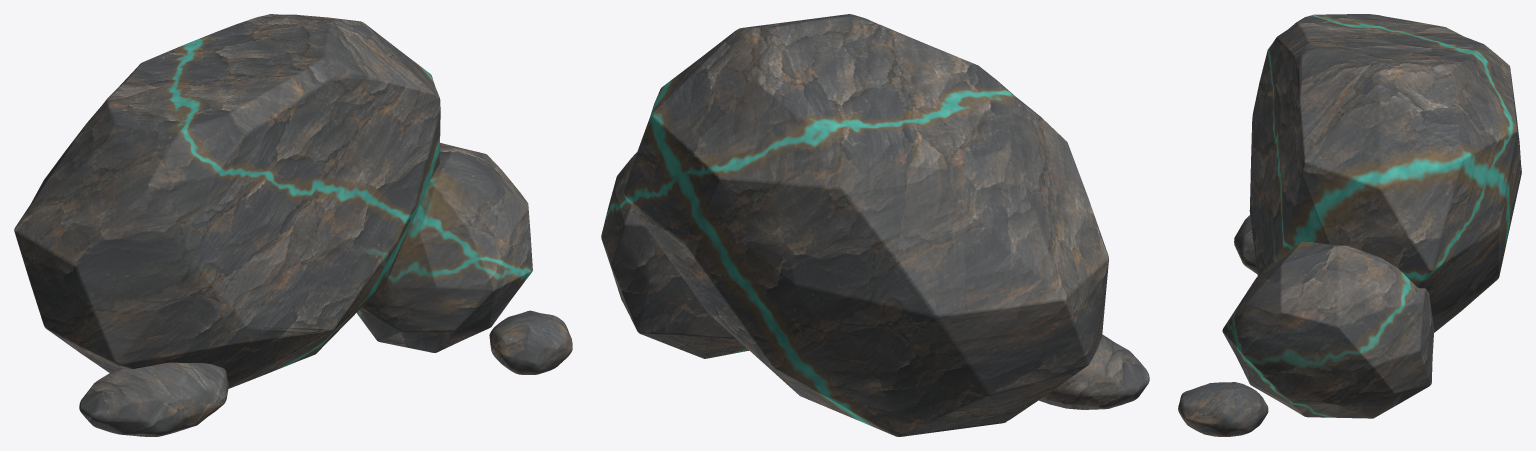
The model's file is korali_study.glb.
The picture shows the model from 3 angles, left to right: view 1: azimuth 30°, elevation 25°; view 2: azimuth 150°, elevation 25°; view 3: azimuth 270°, elevation 25°; orthographic projection. The views are drawn at different scales.
Visible parts, largest first — view 1: Korali_Study_01; view 2: Korali_Study_01; view 3: Korali_Study_01.
Part boxes in pixels (box(x1,y1,x2,y2)): Korali_Study_01: box(14, 14, 572, 436); Korali_Study_01: box(601, 14, 1149, 436); Korali_Study_01: box(1178, 14, 1521, 436).
Bounding box in the file's own units: 3.47 × 2.28 × 2.31.
Materials: 1 (1 with a texture image).
